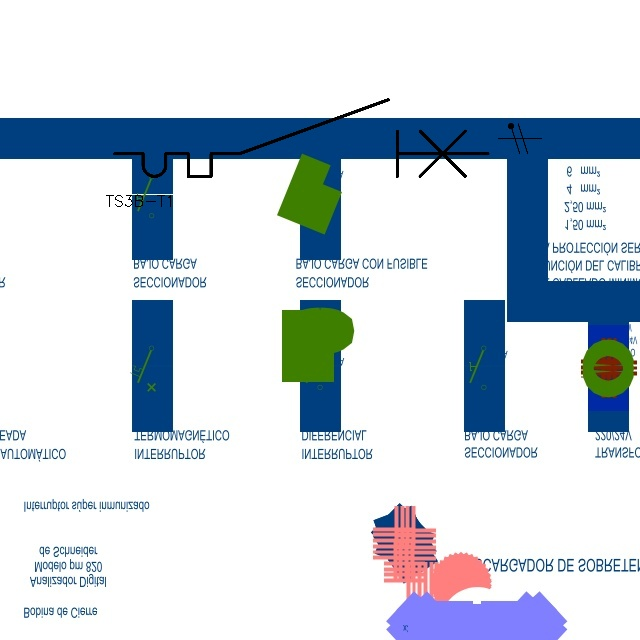interruptor_termomagnetico: (105, 90, 498, 186)
